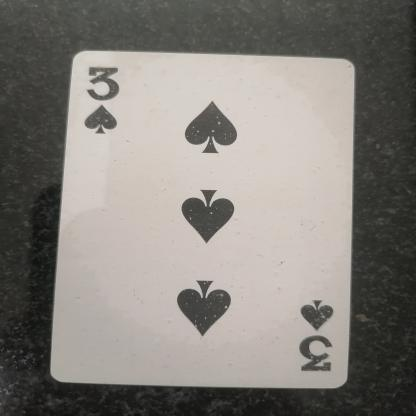3S: (69, 61, 136, 150), (286, 284, 346, 378)
